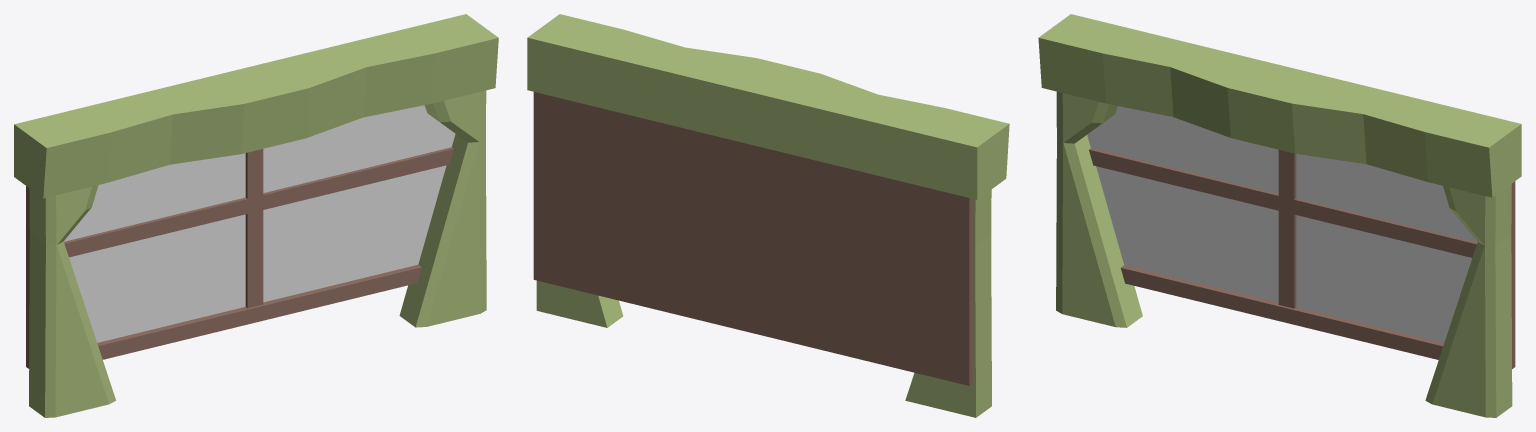
File: Window.fbx
The picture shows the model from 3 angles, left to right: view 1: azimuth 30°, elevation 25°; view 2: azimuth 150°, elevation 25°; view 3: azimuth 330°, elevation 25°; orthographic projection.
Visible parts, largest first — view 1: Plane.022; view 2: Plane.022; view 3: Plane.022.
Part boxes in pixels (x1,y1,x2,y2): Plane.022: [14, 14, 498, 417]; Plane.022: [527, 14, 1009, 417]; Plane.022: [1038, 14, 1521, 417].
Bounding box in the file's own units: 1822 × 1074 × 256.
